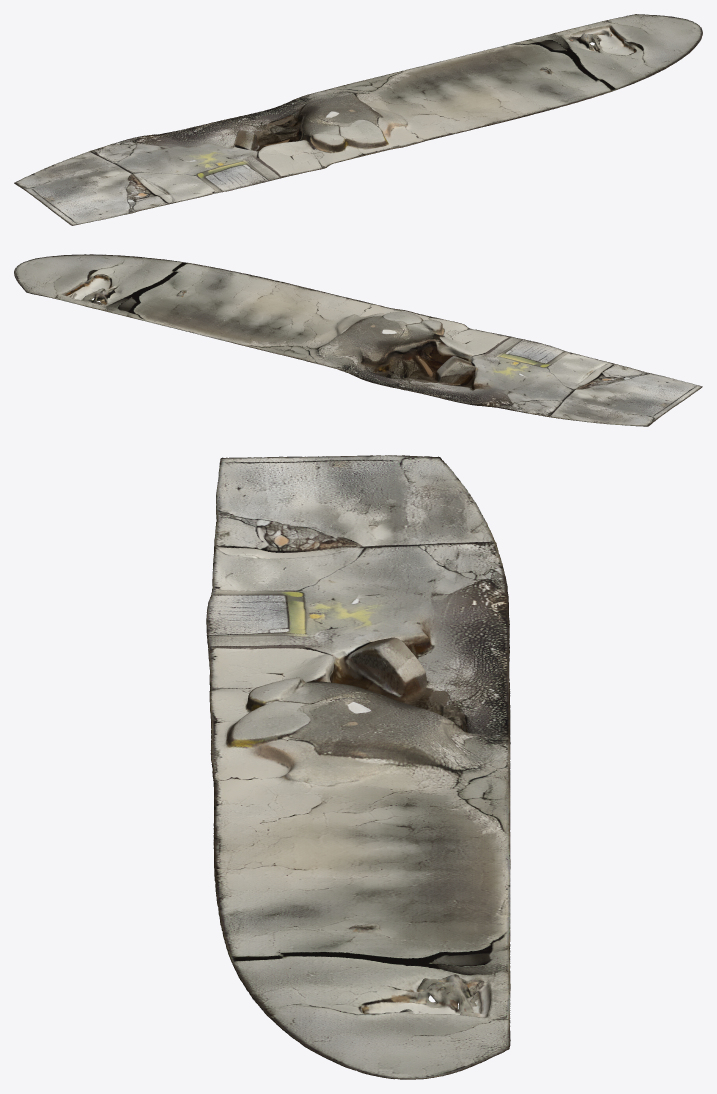
Rendered from pothole_2.glb.
The picture shows the model from 3 angles, top to bottom: view 1: azimuth 30°, elevation 25°; view 2: azimuth 150°, elevation 25°; view 3: azimuth 270°, elevation 25°; orthographic projection. The views are drawn at different scales.
Size of the model in its own units: 1.9 by 0.0746 by 0.3921.
1 material, 1 textured.
